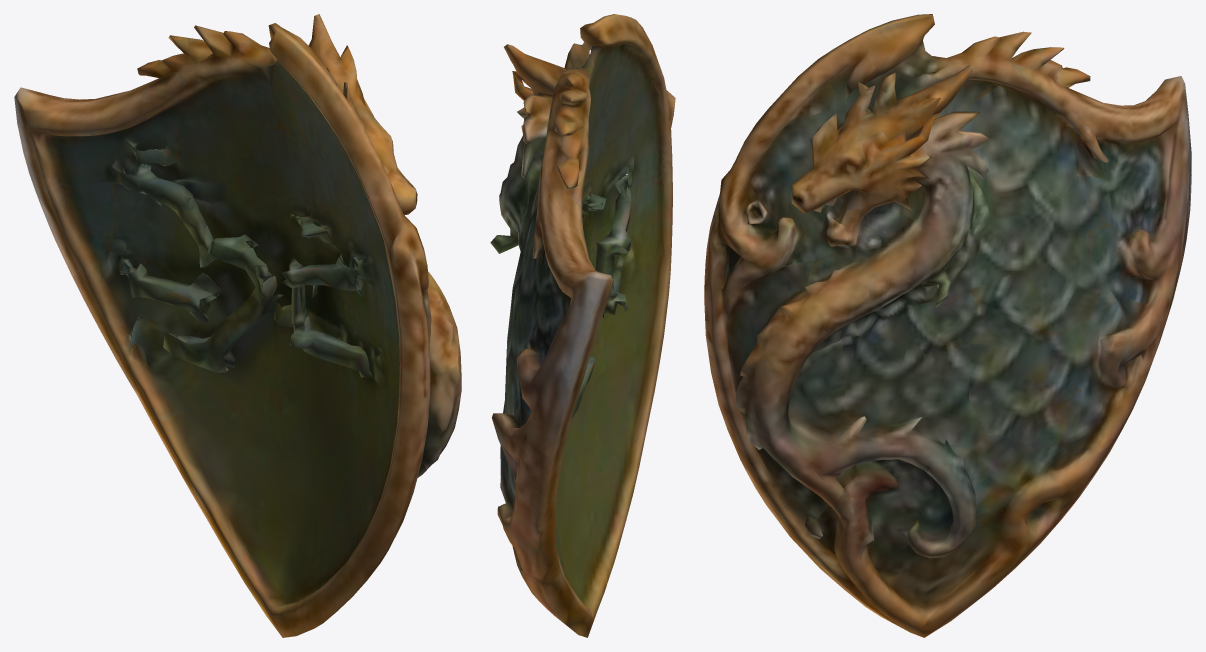
File: shld_drac.glb
3 views of the same model, side by side, from view 1: azimuth 30°, elevation 25°; view 2: azimuth 150°, elevation 25°; view 3: azimuth 270°, elevation 25° (orthographic).
Parts seen in each view (by area): view 1: tripo_node_17a0ee40-07c8-4de7-acba-cc355480f952; view 2: tripo_node_17a0ee40-07c8-4de7-acba-cc355480f952; view 3: tripo_node_17a0ee40-07c8-4de7-acba-cc355480f952.
Part boxes in pixels (x1,y1,x2,y2): tripo_node_17a0ee40-07c8-4de7-acba-cc355480f952: (14,14,461,637); tripo_node_17a0ee40-07c8-4de7-acba-cc355480f952: (490,14,675,637); tripo_node_17a0ee40-07c8-4de7-acba-cc355480f952: (704,14,1191,637).
Bounding box in the file's own units: 0.4212 × 1 × 0.7157.
Materials: 1 (1 with a texture image).
